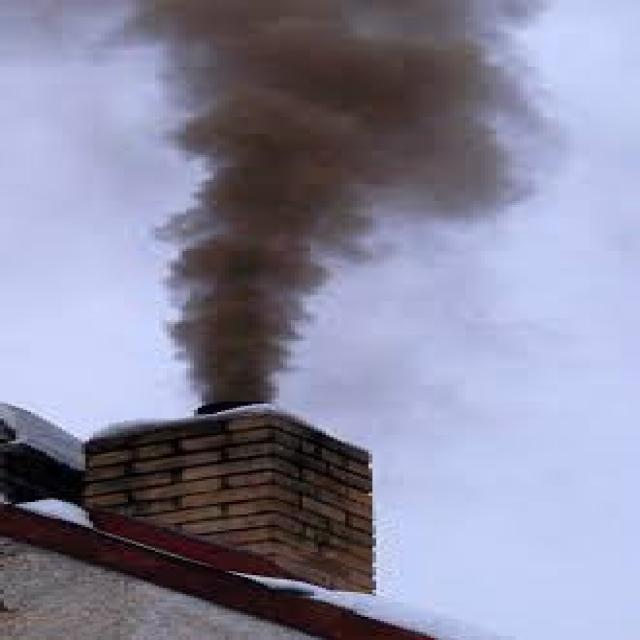Smoke: (95, 0, 567, 406)
